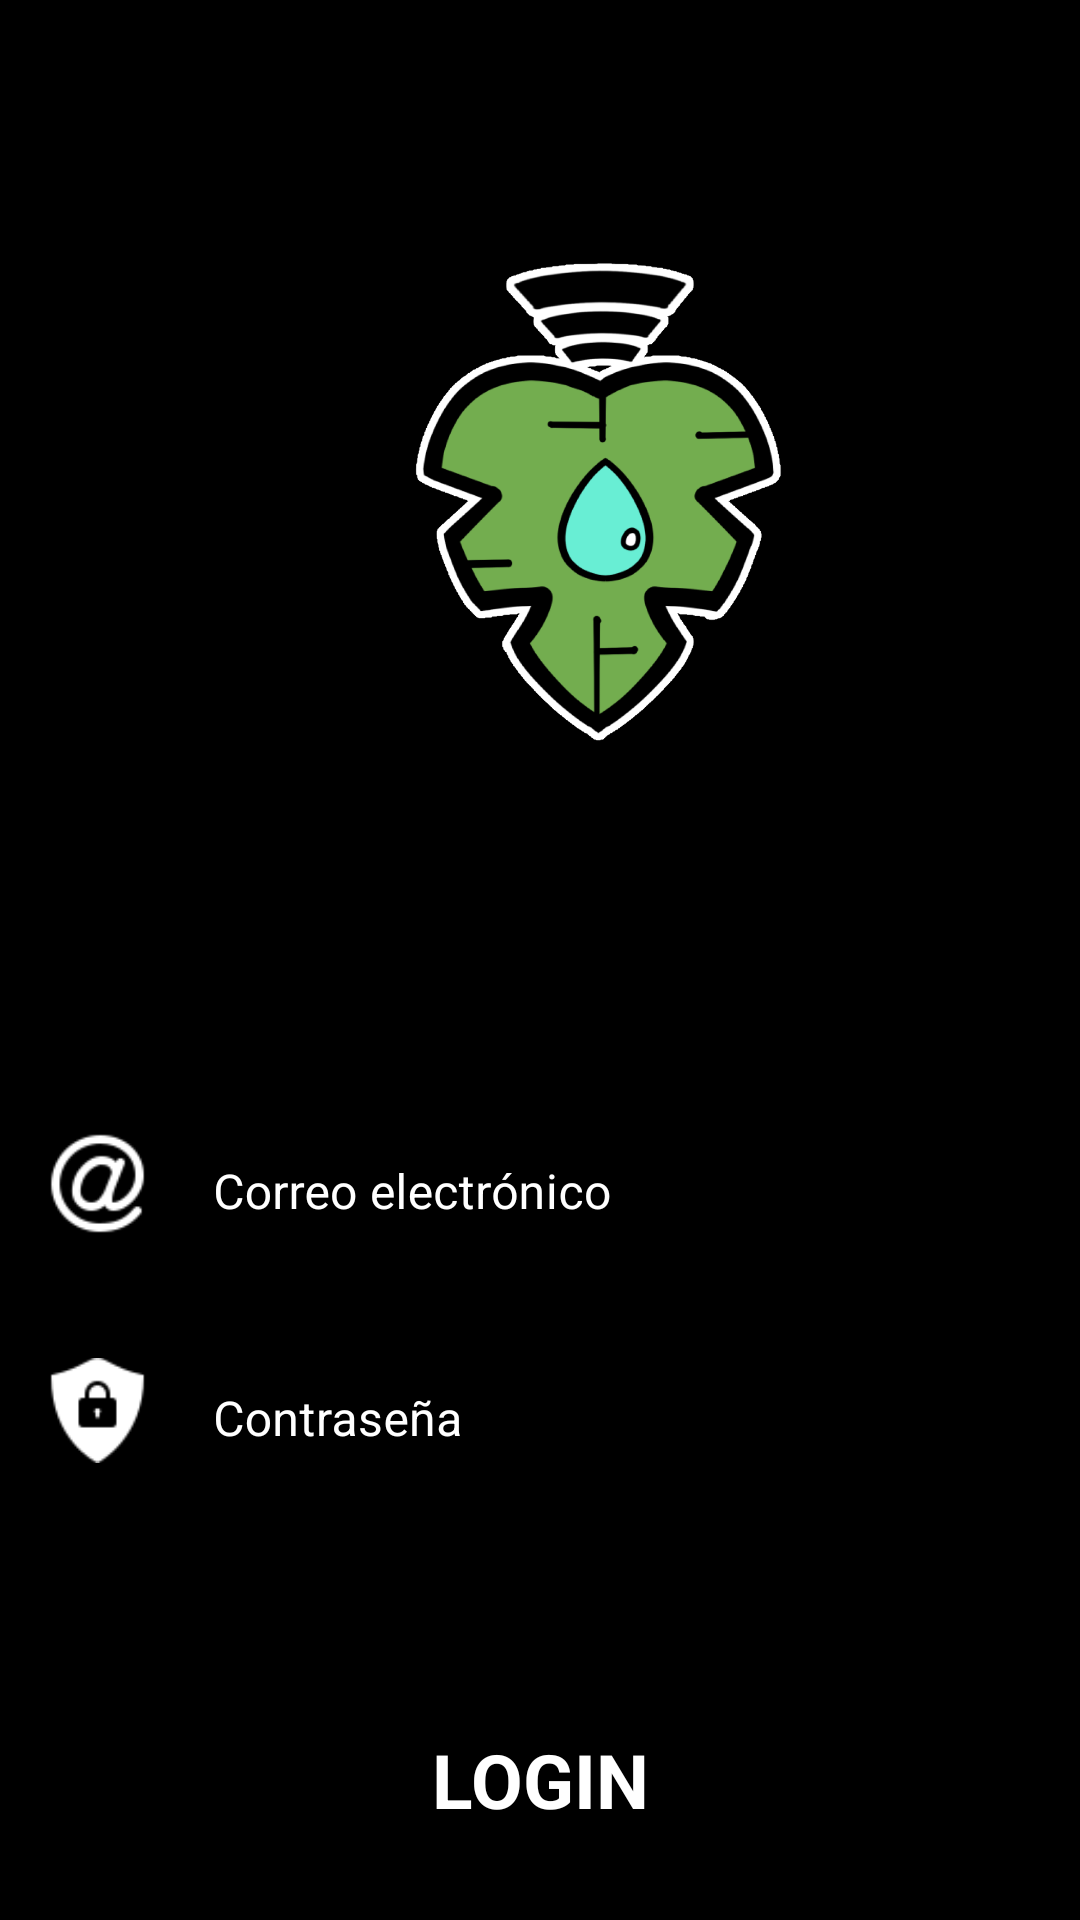

Point at icon controls on the screen. Image size 1080*1920, points as (x=x, y=y).
email: (x=97, y=1183)
password: (x=97, y=1410)
